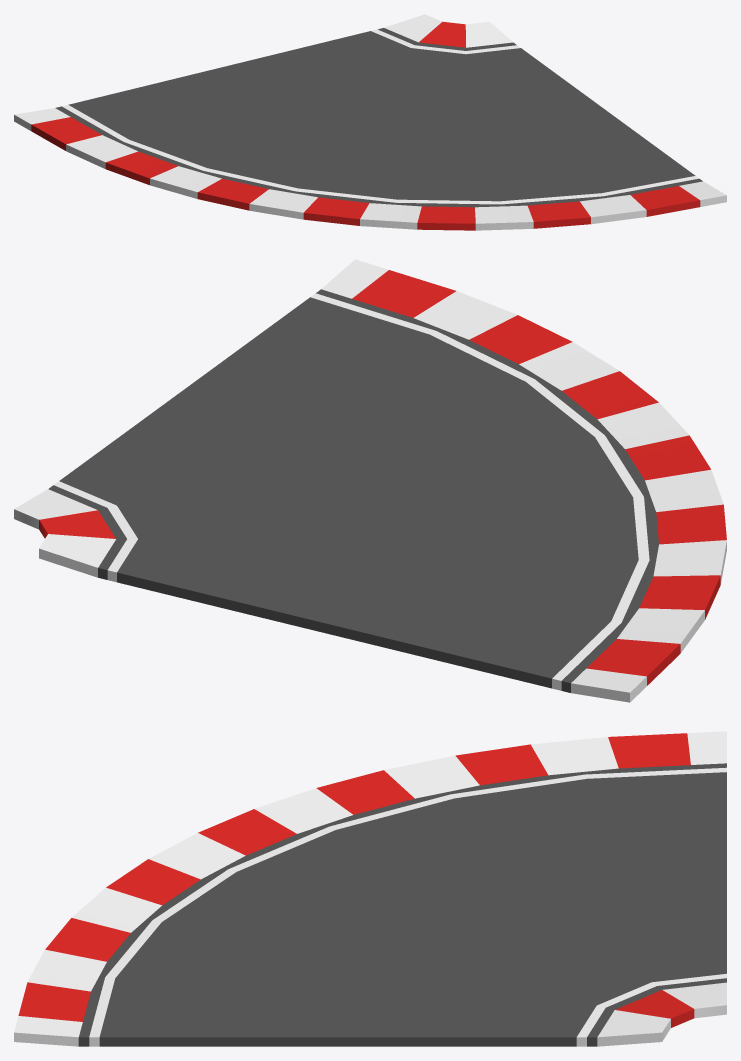
Rendered from Track 90d .fbx.
3 renders of one model, top to bottom at view 1: azimuth 30°, elevation 25°; view 2: azimuth 150°, elevation 25°; view 3: azimuth 270°, elevation 25°, orthographic. The views are drawn at different scales.
Parts seen in each view (by area): view 1: Track_Corner_90d_type_01_15x15m_free; view 2: Track_Corner_90d_type_01_15x15m_free; view 3: Track_Corner_90d_type_01_15x15m_free.
Part boxes in pixels (<box>): Track_Corner_90d_type_01_15x15m_free: <box>14,14,726,230</box>; Track_Corner_90d_type_01_15x15m_free: <box>14,259,726,702</box>; Track_Corner_90d_type_01_15x15m_free: <box>14,731,726,1046</box>.
Size of the model in its own units: 1375 by 30 by 1375.
